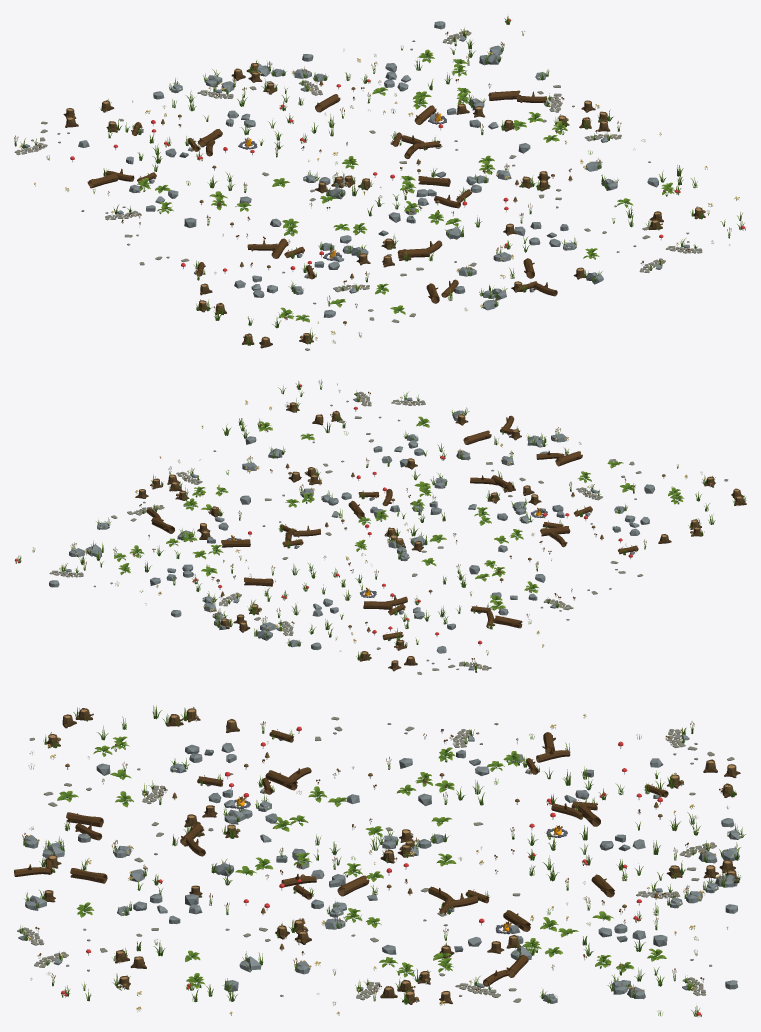
The model's file is floorAssets.fbx.
3 renders of one model, top to bottom at view 1: azimuth 30°, elevation 25°; view 2: azimuth 150°, elevation 25°; view 3: azimuth 270°, elevation 25°, orthographic. The views are drawn at different scales.
Size of the model in its own units: 3778 by 114 by 3846.
